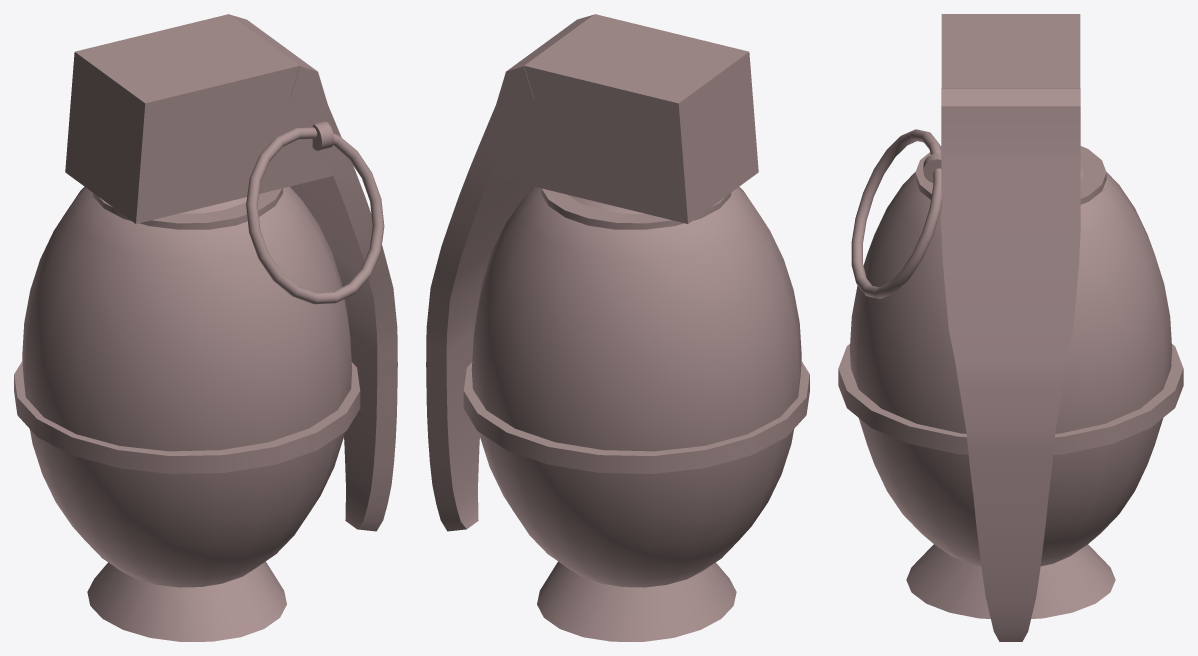
The model's file is dyn_gadget_grenadeblockout.fbx.
The picture shows the model from 3 angles, left to right: view 1: azimuth 30°, elevation 25°; view 2: azimuth 150°, elevation 25°; view 3: azimuth 270°, elevation 25°; orthographic projection.
Visible parts, largest first — view 1: pSphere1, pCube4, pCube3, pCylinder1, pCylinder2, pTorus1, pCylinder3; view 2: pSphere1, pCube4, pCube3, pCylinder1, pCylinder2, pCylinder3; view 3: pCube3, pSphere1, pCube4, pCylinder1, pCylinder2, pTorus1, pCylinder3.
Boxes of the visible parts, x1=… form: pSphere1: x1=22, y1=186, x2=352, y2=587; pCube4: x1=65, y1=14, x2=332, y2=223; pCube3: x1=231, y1=15, x2=397, y2=531; pCylinder1: x1=87, y1=561, x2=286, y2=641; pCylinder2: x1=14, y1=361, x2=360, y2=473; pTorus1: x1=246, y1=127, x2=384, y2=304; pCylinder3: x1=92, y1=188, x2=282, y2=229; pSphere1: x1=471, y1=186, x2=801, y2=587; pCube4: x1=491, y1=14, x2=758, y2=223; pCube3: x1=426, y1=15, x2=592, y2=531; pCylinder1: x1=537, y1=561, x2=736, y2=641; pCylinder2: x1=463, y1=361, x2=809, y2=473; pCylinder3: x1=541, y1=188, x2=731, y2=229; pCube3: x1=941, y1=88, x2=1080, y2=641; pSphere1: x1=849, y1=164, x2=1172, y2=566; pCube4: x1=941, y1=14, x2=1080, y2=88; pCylinder1: x1=906, y1=544, x2=1115, y2=618; pCylinder2: x1=838, y1=344, x2=1183, y2=454; pTorus1: x1=851, y1=129, x2=942, y2=298; pCylinder3: x1=915, y1=146, x2=1106, y2=204.
Size of the model in its own units: 9.64 by 14.51 by 8.58.
